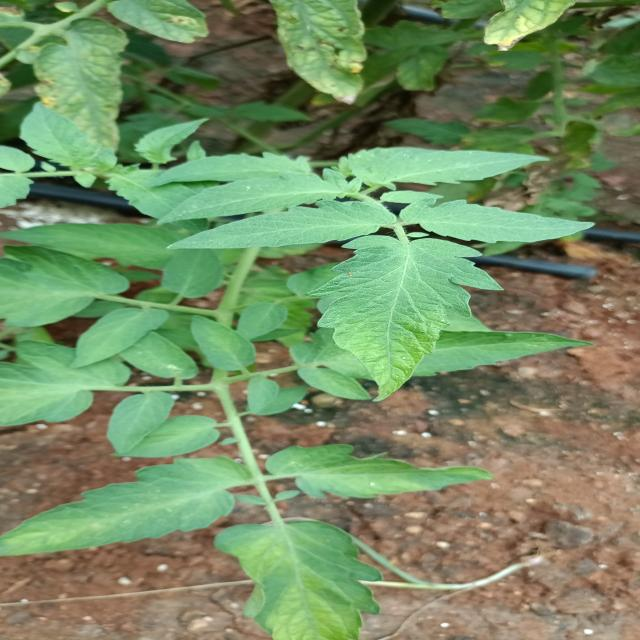Healthy Leaf: (319, 235, 540, 404), (208, 514, 420, 640), (8, 448, 243, 561), (251, 442, 491, 499), (142, 213, 397, 257), (396, 196, 620, 246), (322, 148, 556, 181), (53, 306, 164, 368)
